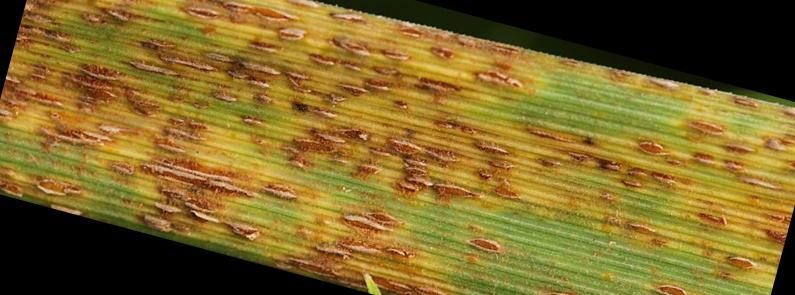Wheat: (14, 6, 323, 254), (283, 14, 545, 280), (597, 116, 792, 289)
